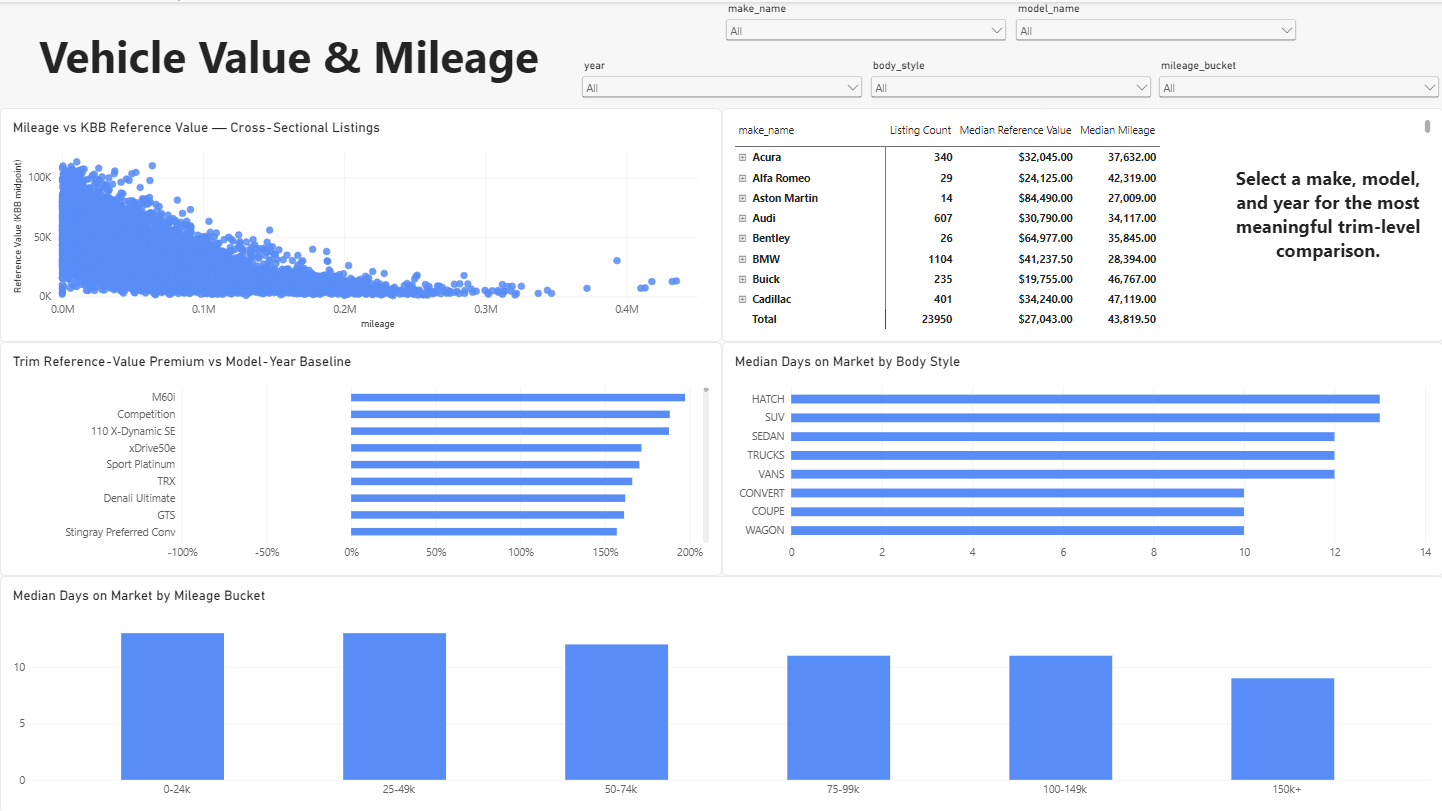

Layout of this report page (visuals, bound fields, positions):
{"tool":"powerbi","page":{"name":"Vehicle Value and Mileage","canvas":[1920,1080],"ordinal":1},"visuals":[{"type":"slicer","fields":{"Values":["dim_vehicle.make_name"]},"box":[960.3,0,383.5,64.8],"z":0,"group":"g3"},{"type":"slicer","fields":{"Values":["fct_listings.mileage_bucket"]},"box":[1536.5,75.8,383.5,64.8],"z":0},{"type":"scatterChart","title":"Mileage vs KBB Reference Value — Cross-Sectional Listings","fields":{"X":["fct_listings.mileage"],"Y":["fct_listings.Reference Value (KBB midpoint)"]},"box":[0,141,960.1,311.4],"z":0,"group":"g1"},{"type":"columnChart","title":"Median Days on Market by Mileage Bucket","fields":{"Category":["fct_listings.mileage_bucket"],"Y":["_Measures.Median Days on Market"]},"box":[0,763.9,1920.6,316.1],"z":0,"group":"g2"},{"type":"slicer","fields":{"Values":["dim_vehicle.year"]},"box":[769.3,75.8,383.5,64.8],"z":1000},{"type":"pivotTable","fields":{"Rows":["dim_vehicle.make_name","dim_vehicle.model_name","dim_vehicle.trim"],"Values":["_Measures.Listing Count","_Measures.Median Reference Value","_Measures.Median Mileage"]},"box":[960.5,141,960.1,311.4],"z":1000,"group":"g1"},{"type":"group","id":"g1","title":"Group 2","box":[0,141,1920.6,622.9],"z":2000,"group":"g2"},{"type":"group","id":"g2","title":"Group 3","box":[0,141,1920.6,939],"z":2000},{"type":"barChart","title":"Trim Reference-Value Premium vs Model-Year Baseline","fields":{"Category":["dim_vehicle.trim"],"Y":["_Measures.Trim Premium %"]},"box":[0,452.5,960.1,311.4],"z":2000,"group":"g1"},{"type":"textbox","box":[0,31.9,768.8,109.1],"z":3000},{"type":"barChart","title":"Median Days on Market by Body Style","fields":{"Category":["dim_vehicle.body_style"],"Y":["_Measures.Median Days on Market"]},"box":[960.5,452.5,960.1,311.4],"z":3001,"group":"g1"},{"type":"slicer","fields":{"Values":["dim_vehicle.model_name"]},"box":[1345.9,0,383.5,64.8],"z":4000,"group":"g3"},{"type":"slicer","fields":{"Values":["dim_vehicle.body_style"]},"box":[1152.9,75.8,383.5,64.8],"z":4000},{"type":"group","id":"g3","title":"Group 1","box":[960.3,0,768.8,65.2],"z":5000},{"type":"textbox","box":[1628,141,276.7,311.2],"z":5001}]}

Visuals, with their boxes in screenshot pixels (x1, y1, x2, y2), scaled from the page's 1920x1080 canvas onto the 1442x811 screenshot:
slicer - dim_vehicle.make_name: [left=721, top=0, right=1009, bottom=49]
slicer - fct_listings.mileage_bucket: [left=1154, top=57, right=1441, bottom=106]
"Mileage vs KBB Reference Value — Cross-Sectional Listings" scatterChart: [left=0, top=106, right=721, bottom=340]
"Median Days on Market by Mileage Bucket" columnChart: [left=0, top=574, right=1441, bottom=810]
slicer - dim_vehicle.year: [left=578, top=57, right=866, bottom=106]
pivotTable - dim_vehicle.make_name x dim_vehicle.model_name: [left=721, top=106, right=1441, bottom=340]
"Group 2" group: [left=0, top=106, right=1441, bottom=574]
"Group 3" group: [left=0, top=106, right=1441, bottom=810]
"Trim Reference-Value Premium vs Model-Year Baseline" barChart: [left=0, top=340, right=721, bottom=574]
textbox: [left=0, top=24, right=577, bottom=106]
"Median Days on Market by Body Style" barChart: [left=721, top=340, right=1441, bottom=574]
slicer - dim_vehicle.model_name: [left=1011, top=0, right=1299, bottom=49]
slicer - dim_vehicle.body_style: [left=866, top=57, right=1154, bottom=106]
"Group 1" group: [left=721, top=0, right=1299, bottom=49]
textbox: [left=1223, top=106, right=1431, bottom=340]
